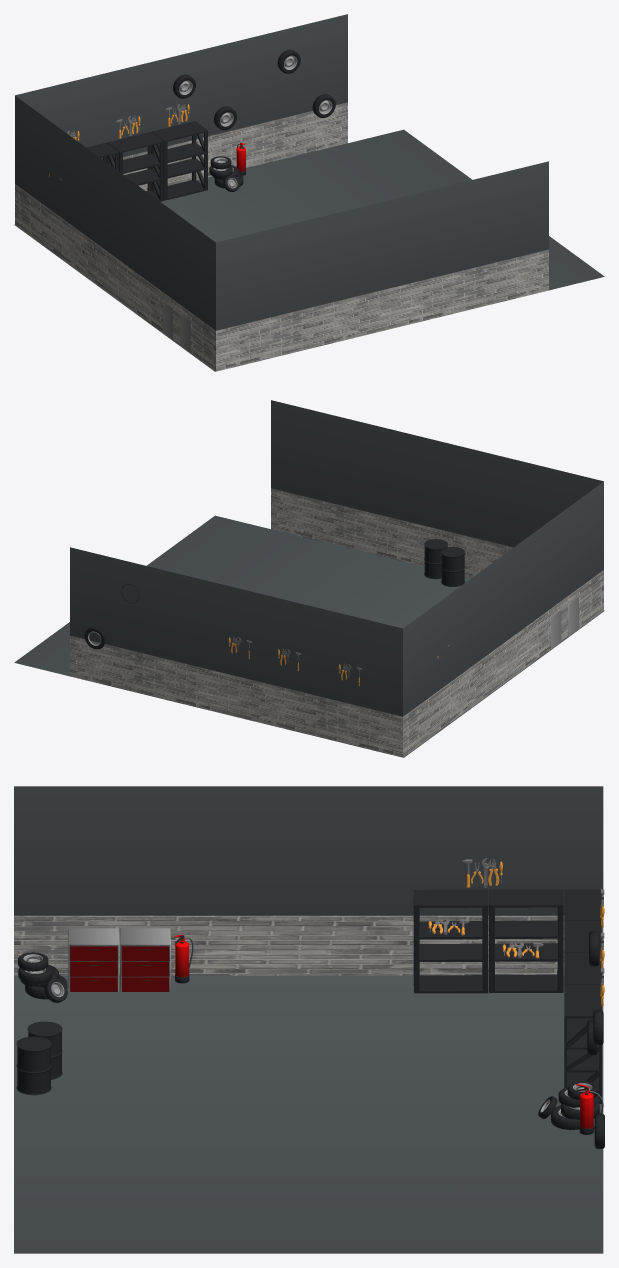
Rendered from garage (1).fbx.
3 renders of one model, top to bottom at view 1: azimuth 30°, elevation 25°; view 2: azimuth 150°, elevation 25°; view 3: azimuth 270°, elevation 25°, orthographic. The views are drawn at different scales.
Parts seen in each view (by area): view 1: Cube.003, Cube.011, Cube.002, Cube.049, Object.001, Object; view 2: Cube.003, Cube.011, Cube.002, Object.010, Object.011; view 3: Cube.002, Cube.003, Cube.011, Cube.049, Object.003, Object.004, Object.011, Object.002, Object, Object.001, Object.010, Object.009 (+2 smaller).
Part boxes in pixels (box(x1,y1,x2,y2)): Cube.003: box(15, 14, 548, 330); Cube.011: box(15, 102, 548, 371); Cube.002: box(14, 129, 604, 371); Cube.049: box(86, 121, 207, 201); Object.001: box(173, 49, 335, 130); Object: box(209, 156, 243, 191); Cube.003: box(70, 400, 603, 716); Cube.011: box(70, 488, 603, 757); Cube.002: box(14, 515, 604, 757); Object.010: box(441, 547, 464, 586); Object.011: box(424, 539, 447, 579); Cube.002: box(14, 975, 603, 1253); Cube.003: box(14, 786, 603, 915); Cube.011: box(14, 915, 603, 975); Cube.049: box(413, 889, 601, 1103); Object.003: box(68, 928, 119, 991); Object.004: box(120, 928, 170, 991); Object.011: box(16, 1036, 51, 1095); Object.002: box(18, 952, 67, 1002); Object: box(538, 1081, 599, 1129); Object.001: box(587, 931, 604, 1148); Object.010: box(27, 1021, 62, 1079); Object.009: box(576, 1084, 603, 1134).
Bounding box in the file's own units: 8326 × 2660 × 7456.
